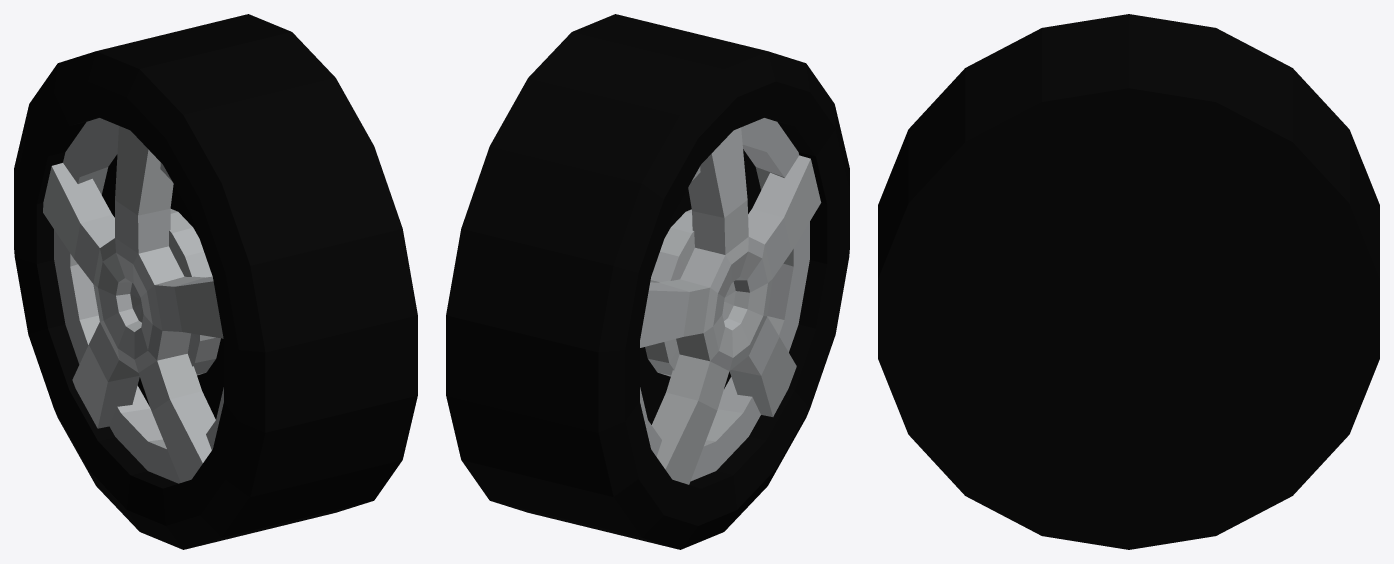
Rendered from Car_J_01_lunzi_FR.FBX.
The picture shows the model from 3 angles, left to right: view 1: azimuth 30°, elevation 25°; view 2: azimuth 150°, elevation 25°; view 3: azimuth 270°, elevation 25°; orthographic projection.
Visible parts, largest first — view 1: car_01_luntai, car_01_lungu; view 2: car_01_luntai, car_01_lungu; view 3: car_01_luntai.
Part boxes in pixels (left/top/right/bottom): car_01_luntai: left=14, top=14, right=417, bottom=549; car_01_lungu: left=43, top=118, right=223, bottom=483; car_01_luntai: left=446, top=14, right=849, bottom=549; car_01_lungu: left=640, top=118, right=821, bottom=484; car_01_luntai: left=878, top=14, right=1379, bottom=549.
Bounding box in the file's own units: 16.57 × 43.64 × 42.98.
